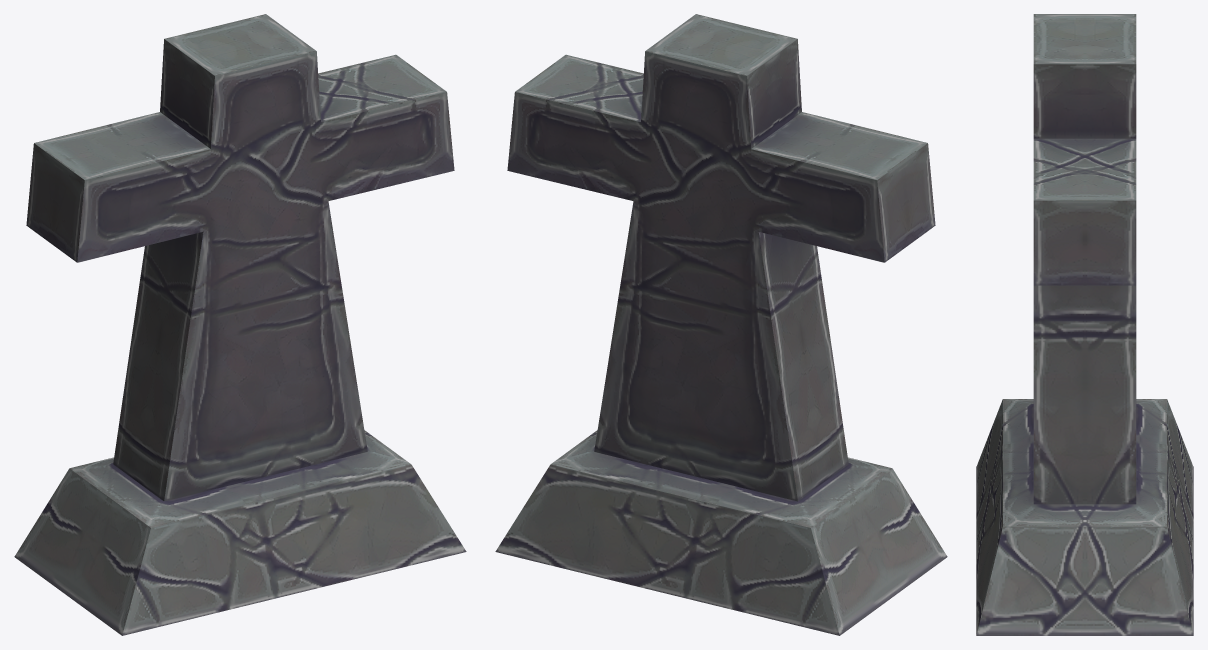
The model's file is cem_prop_grave_04.fbx.
3 renders of one model, left to right at view 1: azimuth 30°, elevation 25°; view 2: azimuth 150°, elevation 25°; view 3: azimuth 270°, elevation 25°, orthographic.
Visible parts, largest first — view 1: cem_prop_grave_04; view 2: cem_prop_grave_04; view 3: cem_prop_grave_04.
Part boxes in pixels (bbox=[...]): cem_prop_grave_04: bbox=[14, 14, 466, 635]; cem_prop_grave_04: bbox=[495, 14, 947, 635]; cem_prop_grave_04: bbox=[976, 14, 1193, 635].
Bounding box in the file's own units: 75.81 × 97.83 × 37.57.
